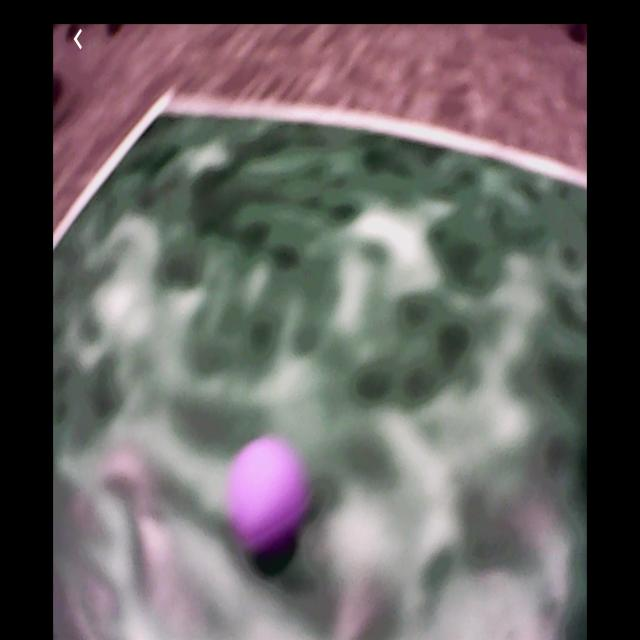ball: (223, 433, 313, 573)
